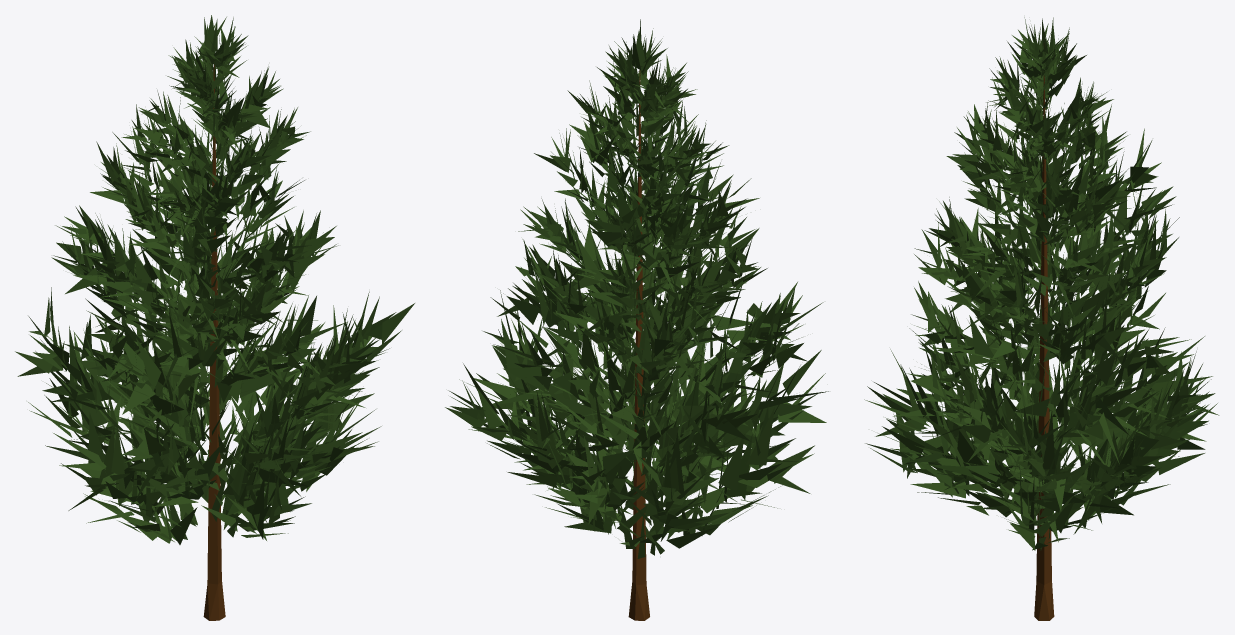
Rendered from pine.obj.
3 renders of one model, left to right at view 1: azimuth 30°, elevation 25°; view 2: azimuth 150°, elevation 25°; view 3: azimuth 270°, elevation 25°, orthographic. The views are drawn at different scales.
Visible parts, largest first — view 1: needles, trunk; view 2: needles, trunk; view 3: needles, trunk.
Part boxes in pixels (x1,y1,x2,y2): needles: [15, 15, 414, 544]; trunk: [203, 65, 225, 620]; needles: [445, 19, 828, 558]; trunk: [628, 70, 649, 620]; needles: [864, 17, 1219, 550]; trunk: [1034, 43, 1054, 620].
Bounding box in the file's own units: 340 × 600 × 320.
